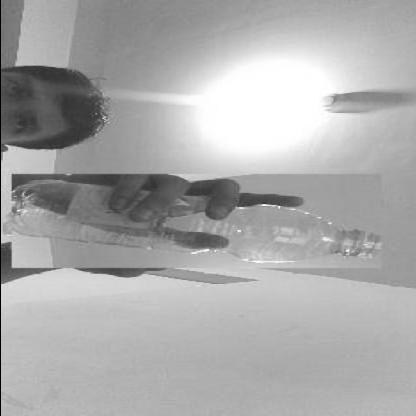plastic_bottles: (11, 174, 380, 268)
